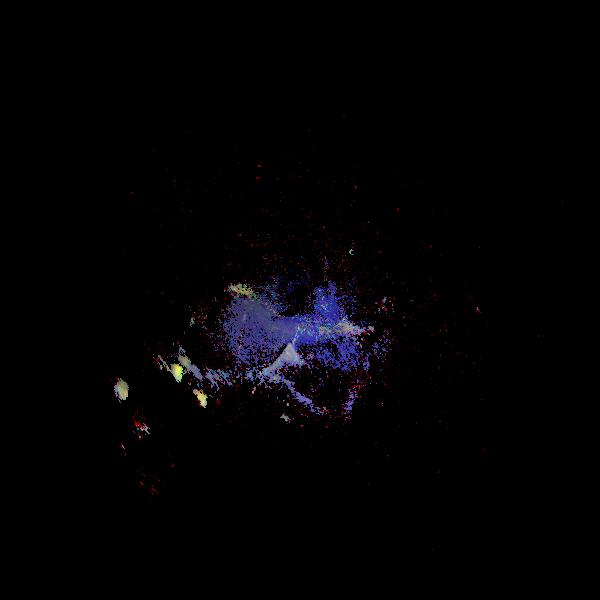roost: (108, 379, 132, 403), (187, 389, 211, 413), (169, 364, 184, 379)
